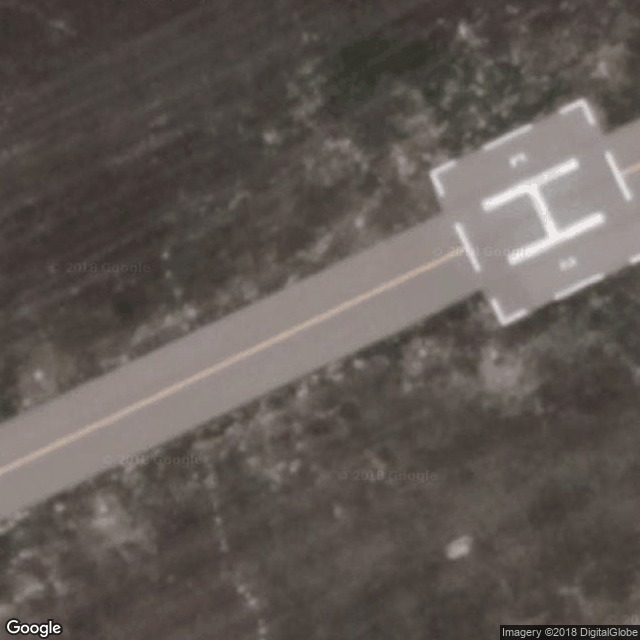heliport: (465, 145, 614, 269)
